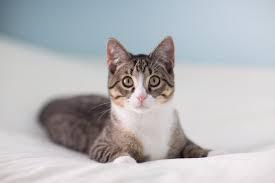cat: (38, 34, 214, 165)
